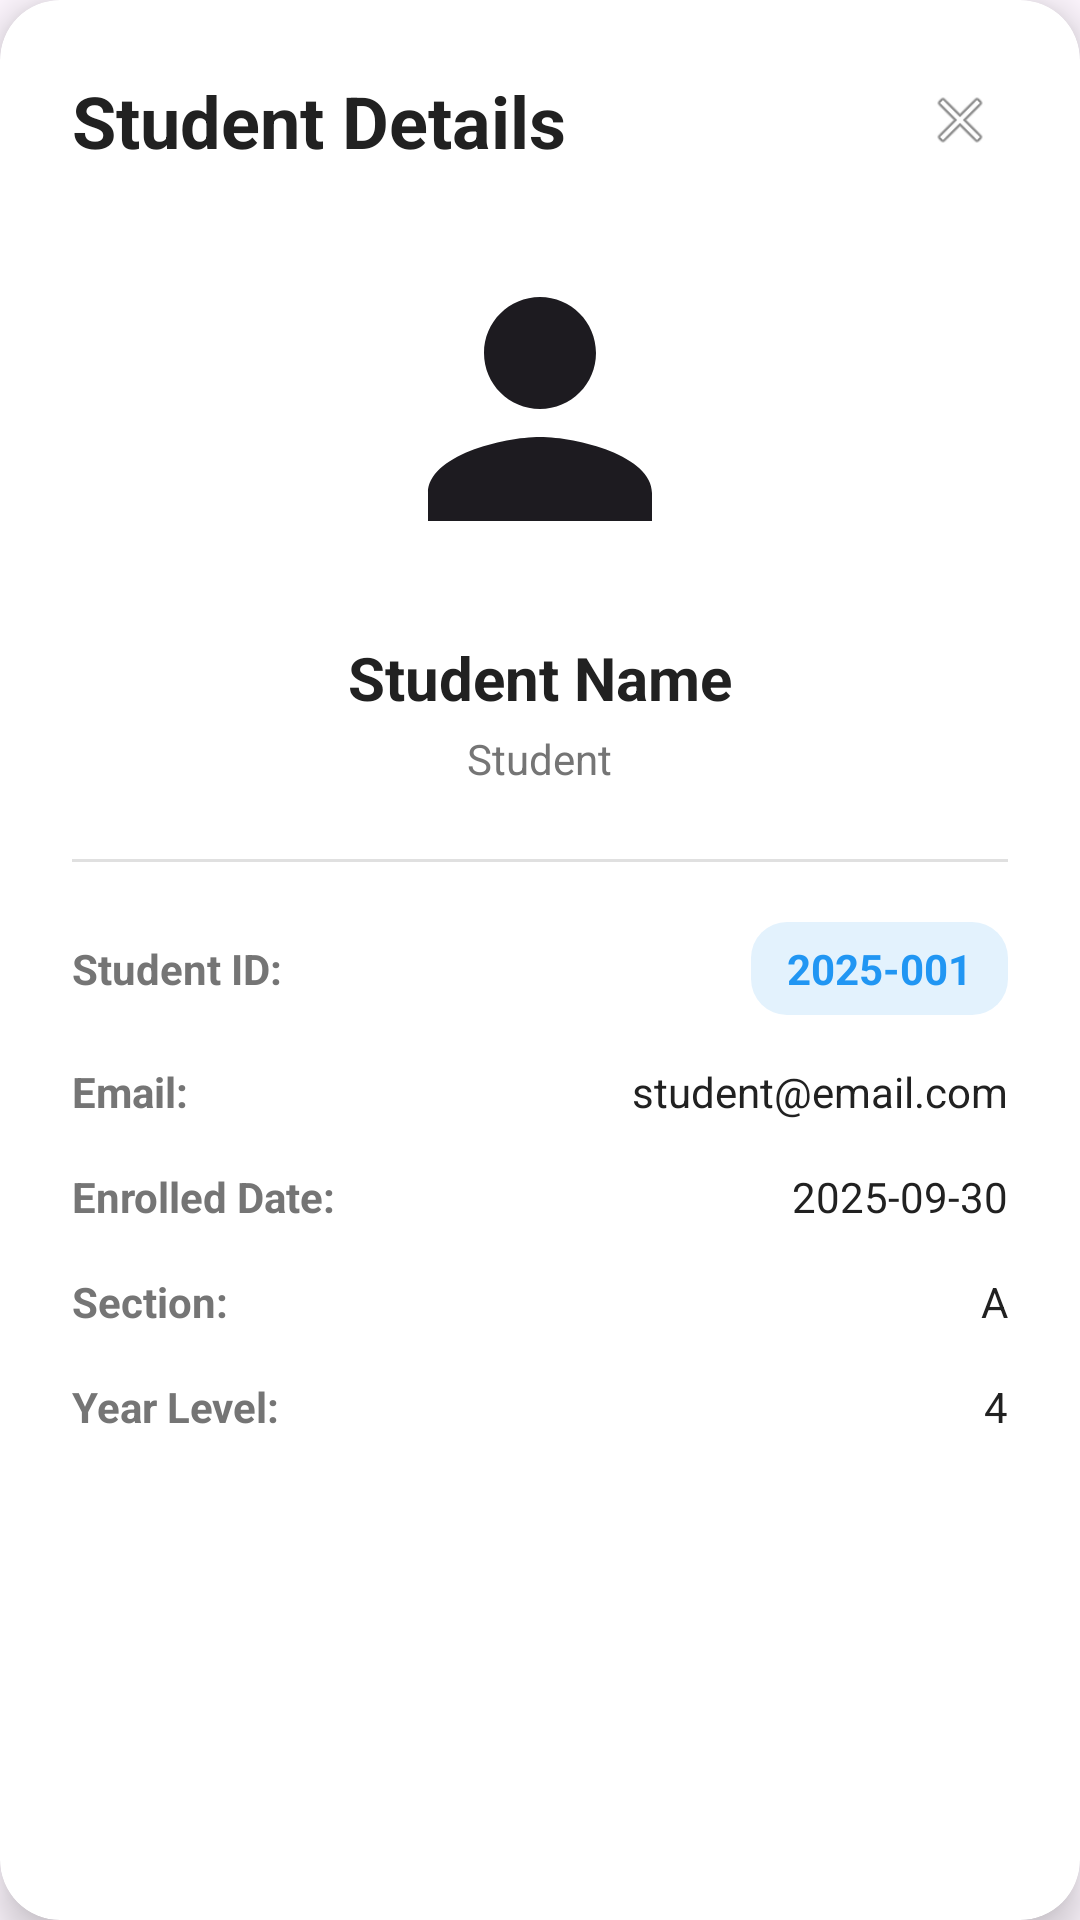

Icon click points for this 1080px x 1920px phone screenshot, format (x,y):
Close: (960,120)
